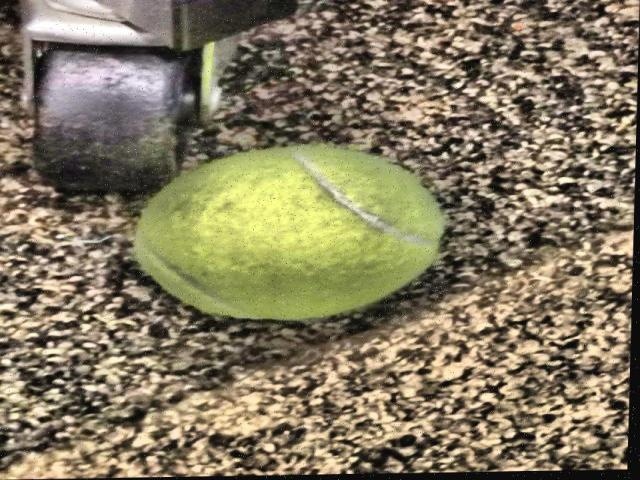tennis-ball: (136, 145, 446, 324)
